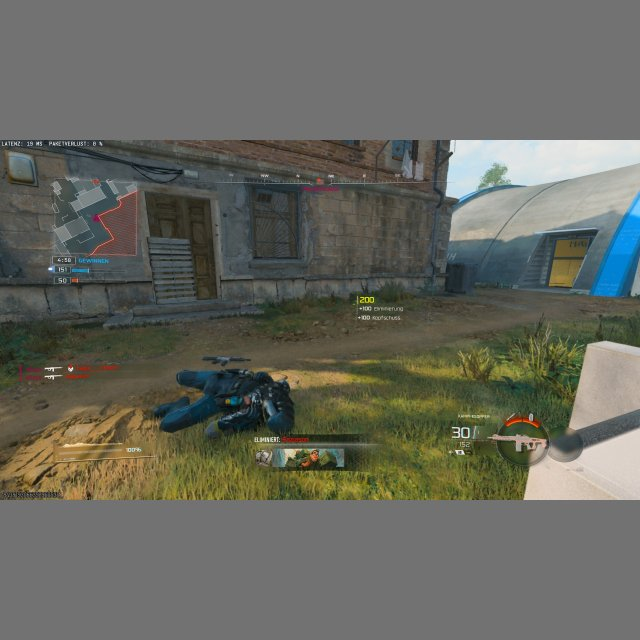head: (261, 389, 295, 432)
